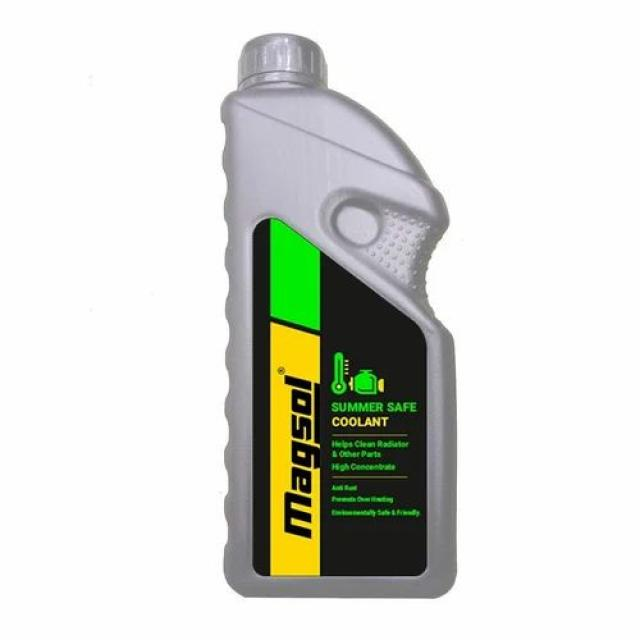coolant: (212, 30, 474, 601)
